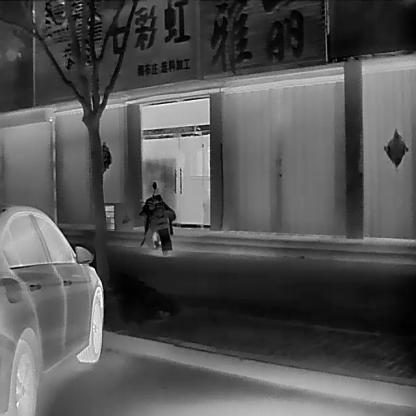car: (1, 203, 104, 416)
